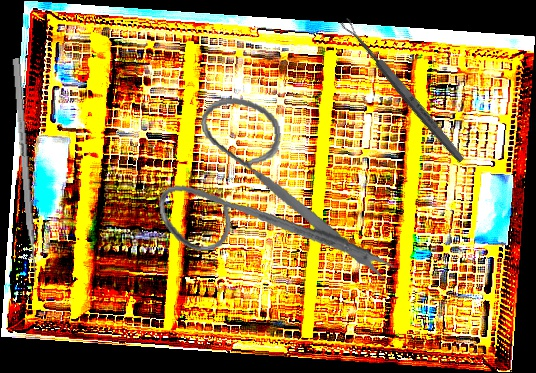Iris Scissors: (145, 76, 400, 314)
Pusher: (11, 58, 41, 288)
Surgical Spoon: (339, 16, 467, 165)
